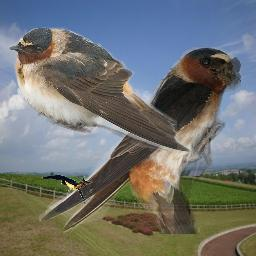Swallow: (39, 47, 241, 234), (8, 27, 191, 153), (41, 172, 102, 204)
